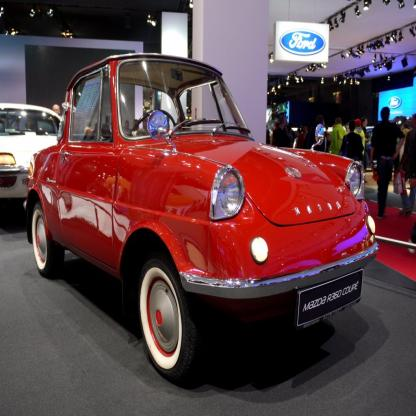Car: (23, 50, 380, 383), (1, 105, 63, 214)
